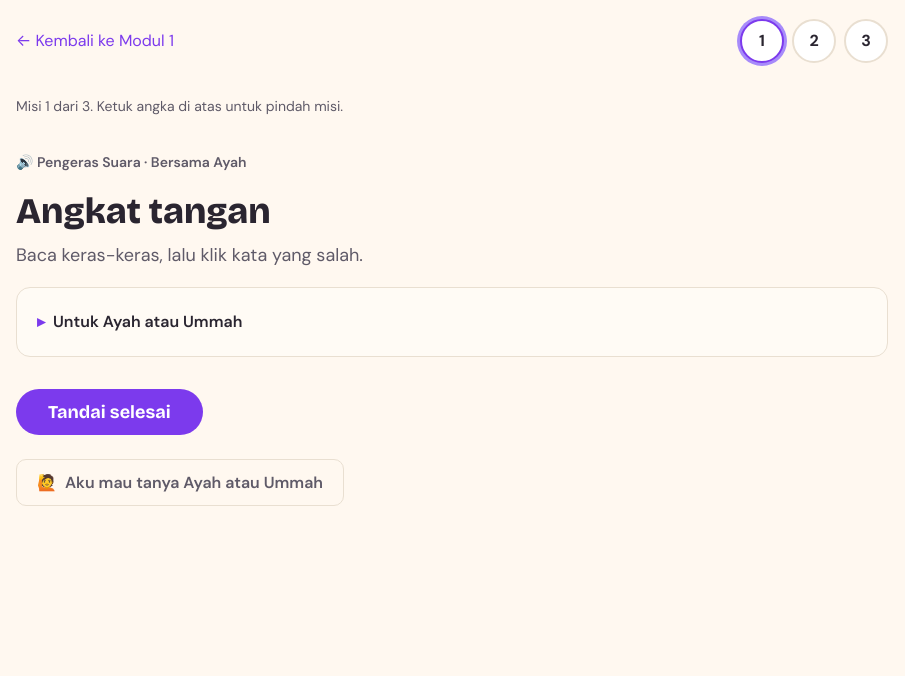
Test case: Misi › misi tandai: petunjuk orang tua terlipat lalu Tandai selesai
The image size is (905, 676).
Expected: the heading "Untuk Ayah atau Ummah" is shown, [53,311,242,332]
Step 1. Click the button "Tandai selesai" → (109, 412), box [16,389,203,435]
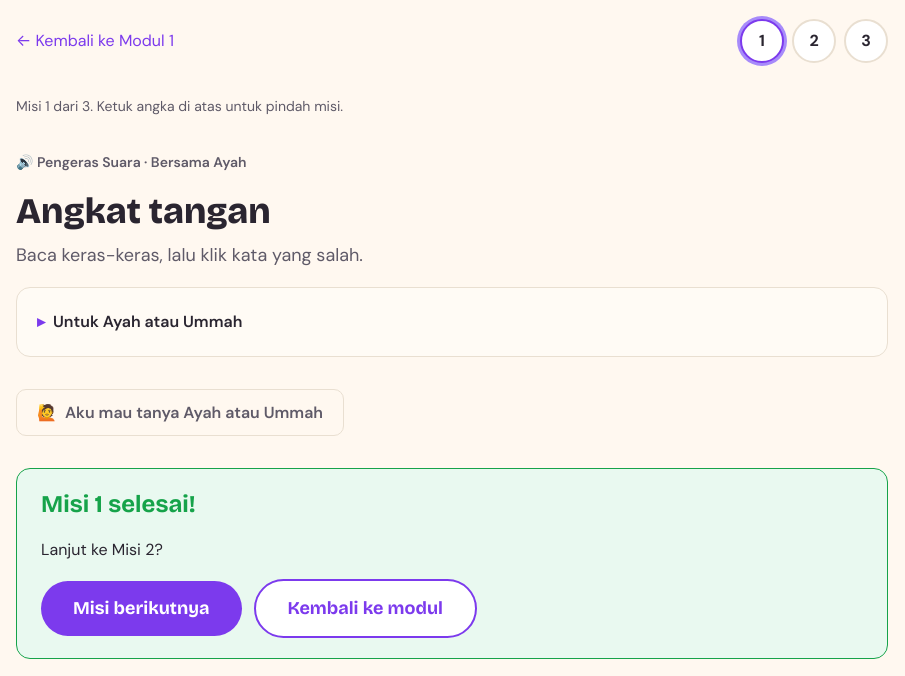
Expected: the heading "Misi 1 selesai!" is shown, [41,490,196,518]
